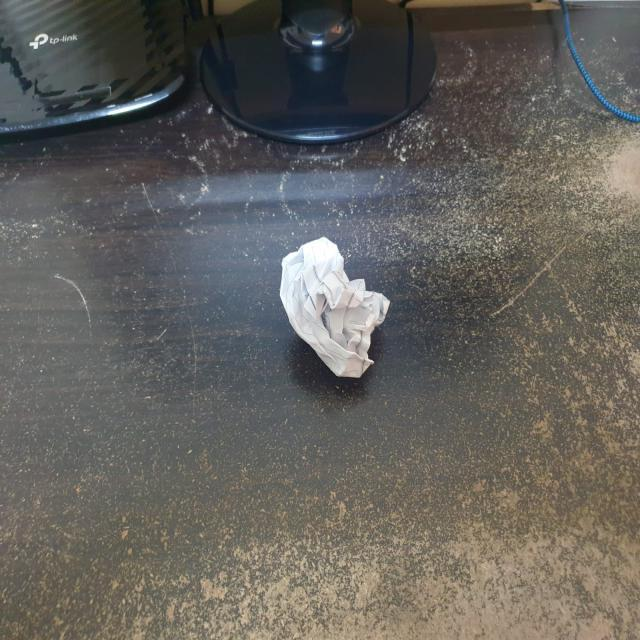Paper: (282, 240, 389, 382)
